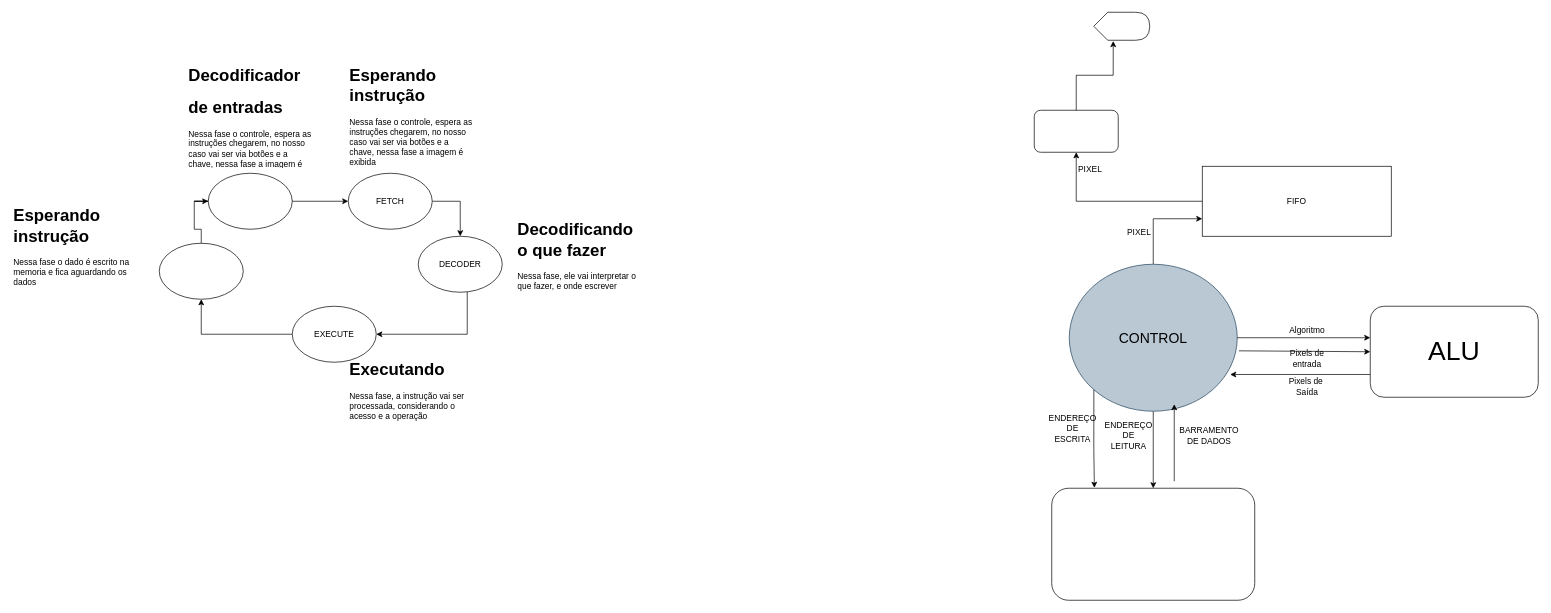
Image size: 1551x613. Some labels were removed from this diagram. Here are the shapes that lost their labels. From the top down, the centre of each, then its label:
At (x=1076, y=131): "OUTPUT (VGA)".
At (x=201, y=271): "WRITE".
At (x=1153, y=544): "MEMORIA".
